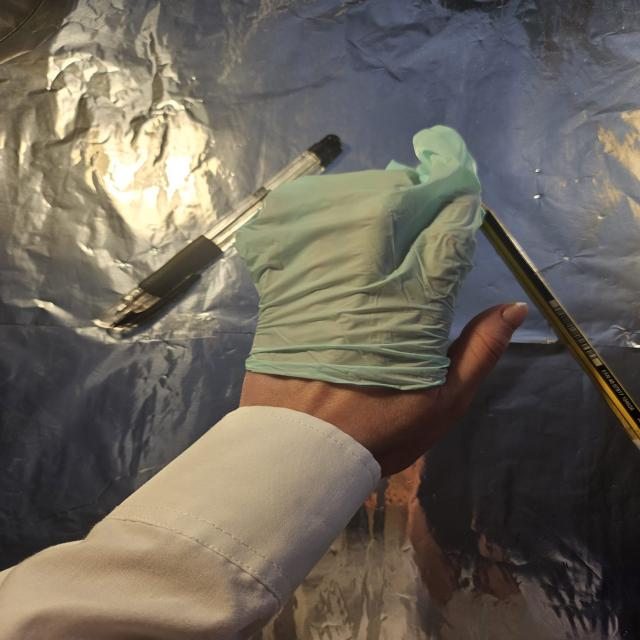glove_partial: (234, 126, 530, 463)
